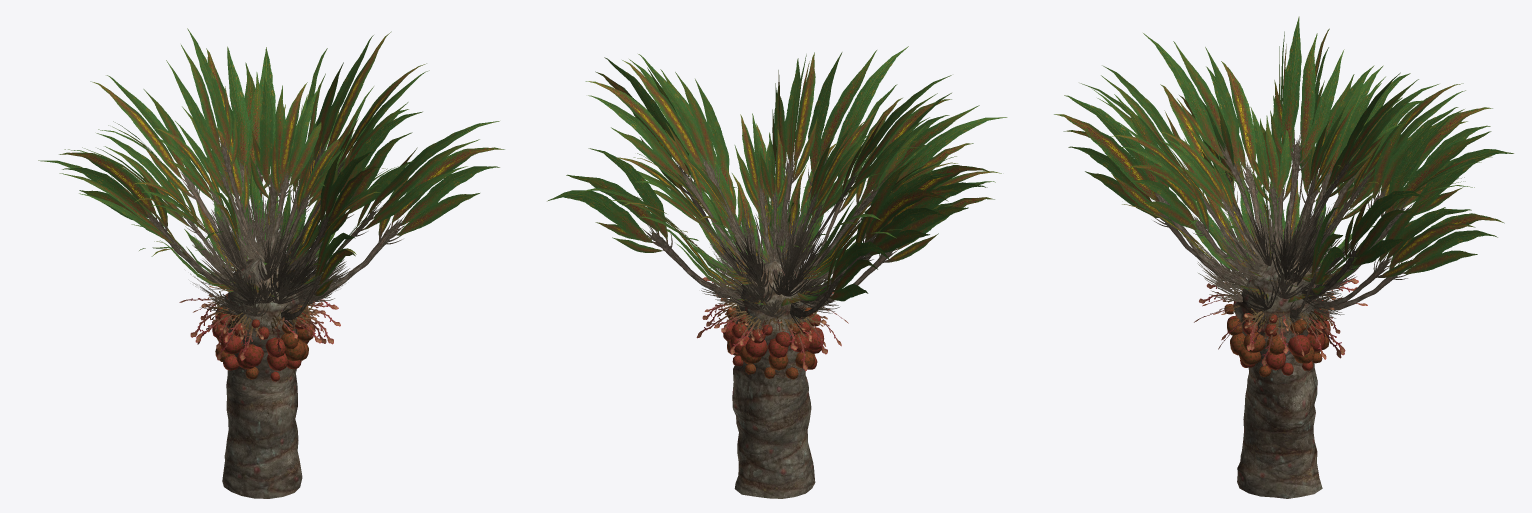
File: Tree - Alien Tree 06 3-DhDJTvy9.glb
3 views of the same model, side by side, from view 1: azimuth 30°, elevation 25°; view 2: azimuth 150°, elevation 25°; view 3: azimuth 270°, elevation 25° (orthographic). The views are drawn at different scales.
Parts seen in each view (by area): view 1: Tree6_3(Clone); view 2: Tree6_3(Clone); view 3: Tree6_3(Clone).
Boxes of the visible parts, x1,y1,x2,y2 form: Tree6_3(Clone): (38,28,504,498); Tree6_3(Clone): (547,46,1007,498); Tree6_3(Clone): (1054,16,1513,498).
Size of the model in its own units: 6.88 by 6.37 by 6.82.
Materials: 3 (3 with a texture image).
